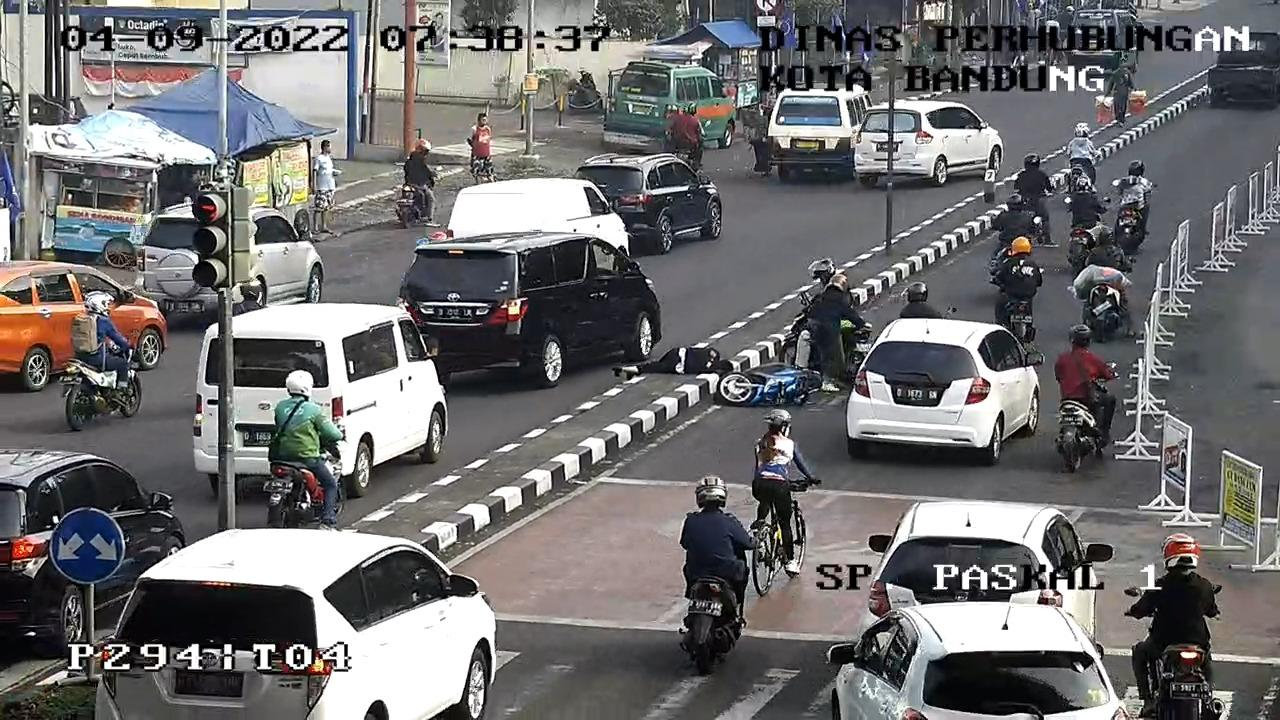accident: (605, 342, 741, 387)
